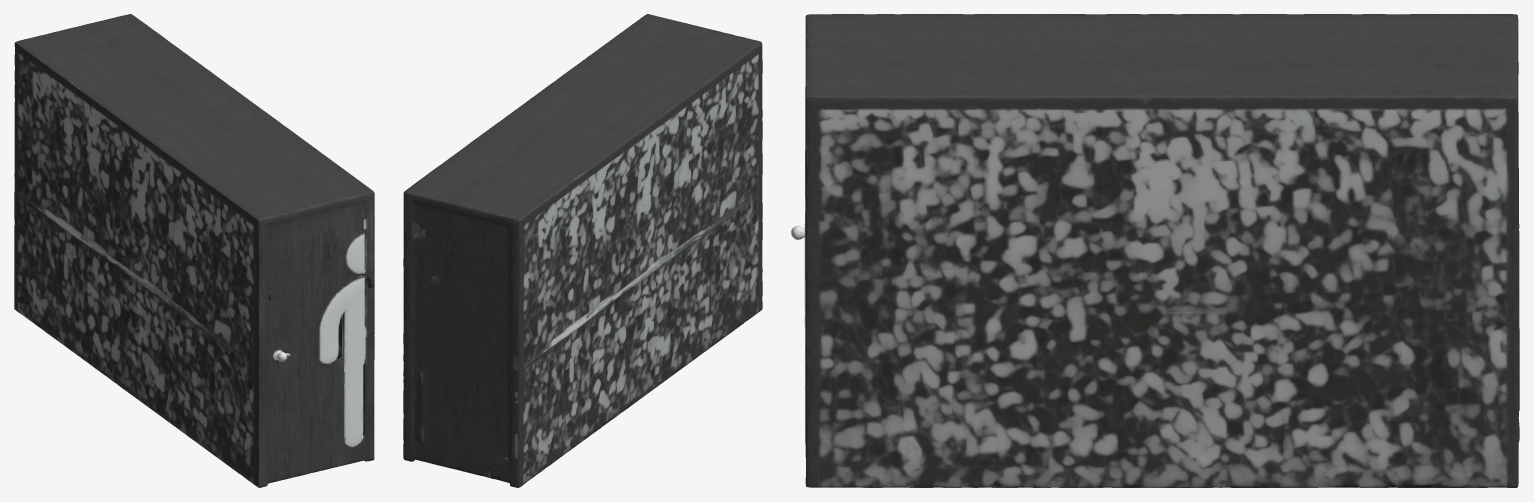
The model's file is image_9e2619-give-me-a-single-door.webp_00002.glb.
3 views of the same model, side by side, from view 1: azimuth 30°, elevation 25°; view 2: azimuth 150°, elevation 25°; view 3: azimuth 270°, elevation 25° (orthographic). The views are drawn at different scales.
Size of the model in its own units: 0.2721 by 0.5904 by 0.994.
1 material, 1 textured.
